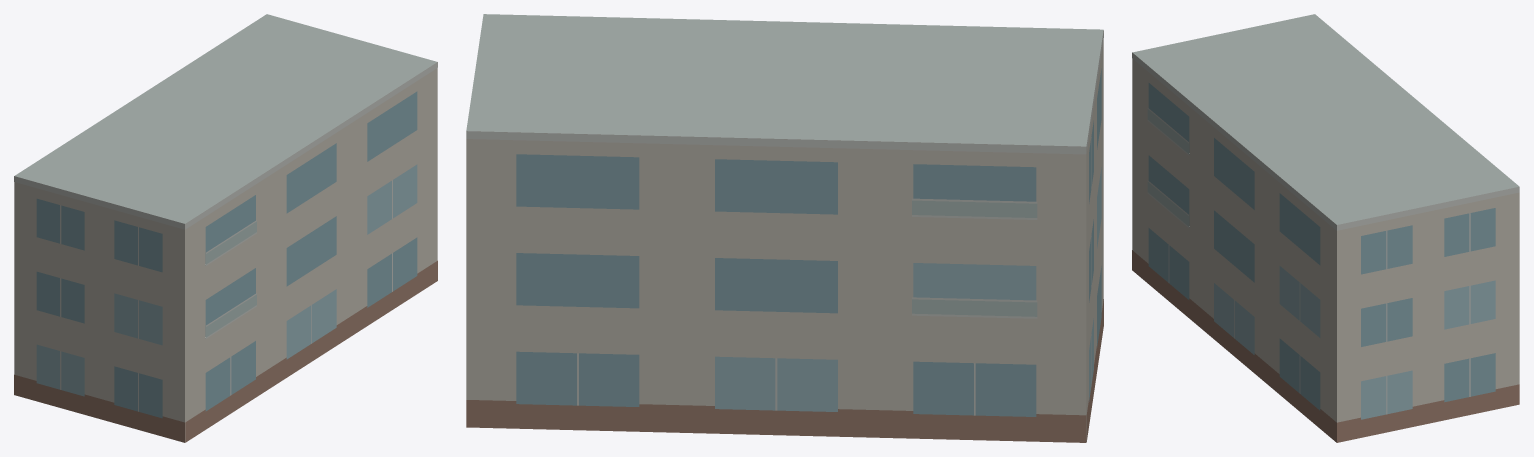
File: survey-upis-32702127.glb
3 views of the same model, side by side, from view 1: azimuth 30°, elevation 25°; view 2: azimuth 150°, elevation 25°; view 3: azimuth 270°, elevation 25° (orthographic). The views are drawn at different scales.
Parts seen in each view (by area): view 1: survey-upis-32702127.tmp; view 2: survey-upis-32702127.tmp; view 3: survey-upis-32702127.tmp.
Part boxes in pixels (x1=…): survey-upis-32702127.tmp: x1=14, y1=14, x2=437, y2=442; survey-upis-32702127.tmp: x1=466, y1=14, x2=1103, y2=442; survey-upis-32702127.tmp: x1=1132, y1=14, x2=1519, y2=442.
Size of the model in its own units: 19.02 by 9.15 by 14.76.
